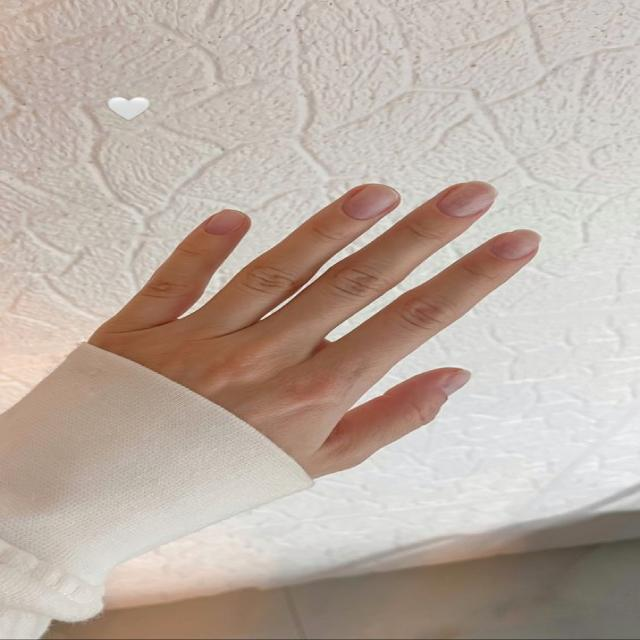Fingernail: (439, 181, 496, 219), (345, 185, 397, 221), (491, 230, 539, 263), (205, 210, 243, 237), (444, 373, 470, 401)
